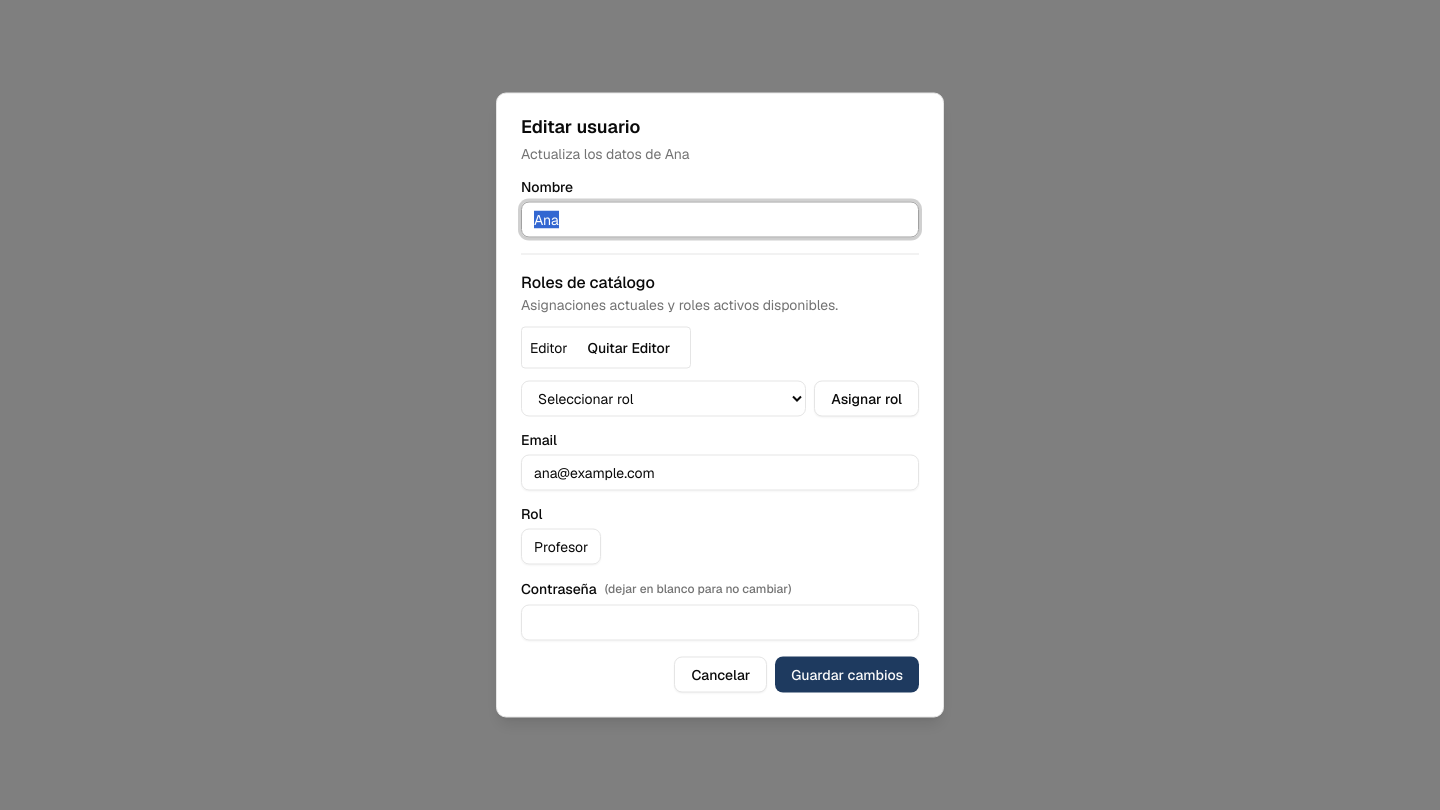
it: EditUserDialog catalog assignments › unassigns a current role and refreshes the user projection
The width and height of the screenshot is (1440, 810).
Expected: the text "Editor" is shown, [530,338,568,358]
Click the button "Quitar Editor" at [629, 348], box [576,332,682,364]
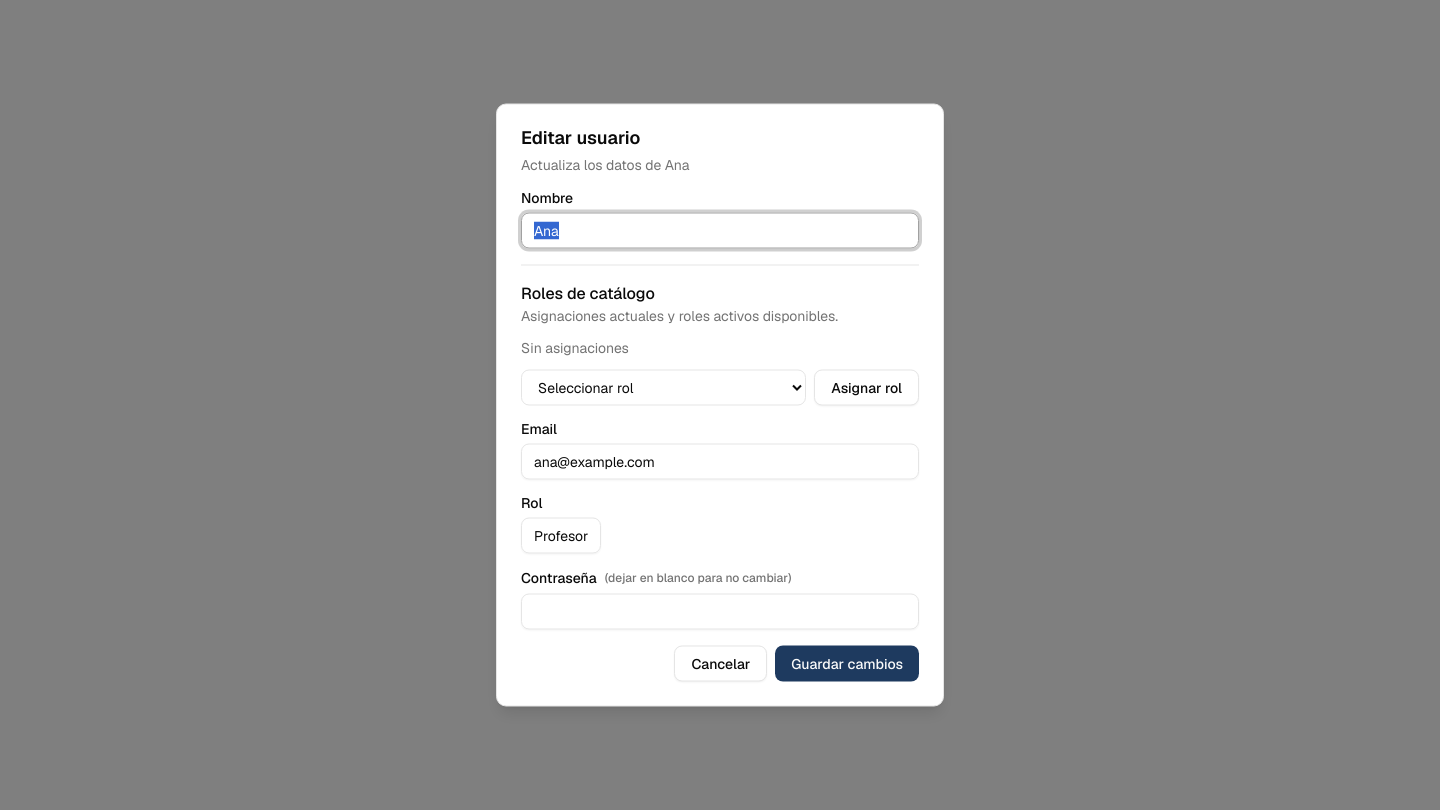
Now the button "Quitar Editor" is gone
